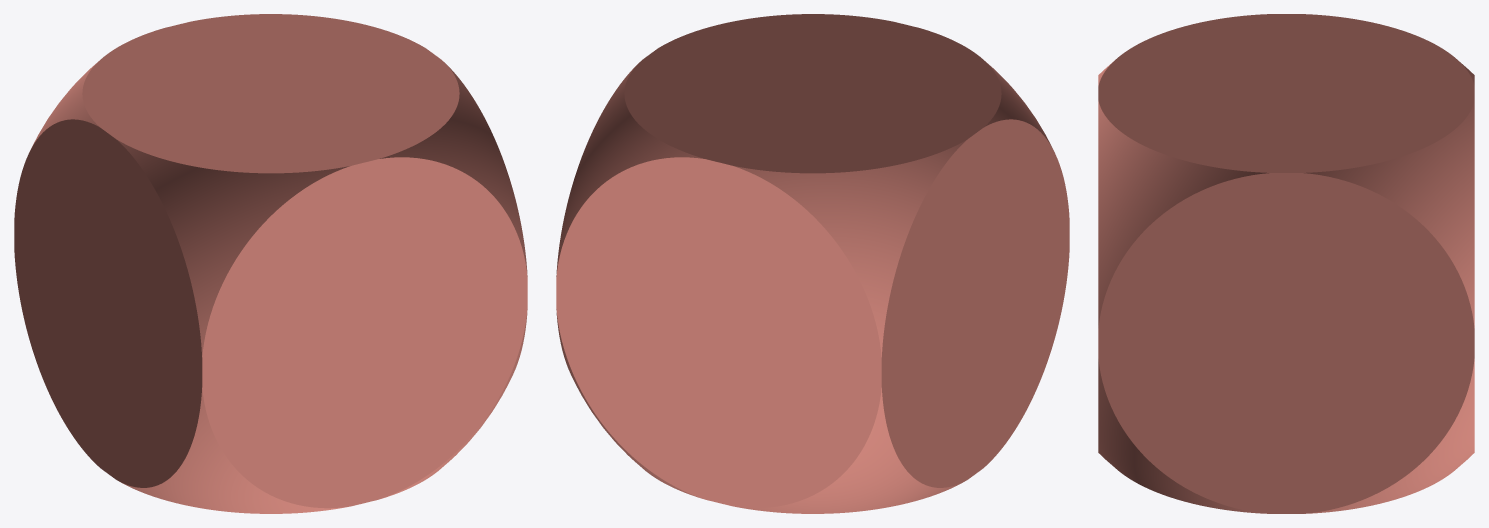
Rendered from live.glb.
The picture shows the model from 3 angles, left to right: view 1: azimuth 30°, elevation 25°; view 2: azimuth 150°, elevation 25°; view 3: azimuth 270°, elevation 25°; orthographic projection.
Bounding box in the file's own units: 24 × 24 × 24.
